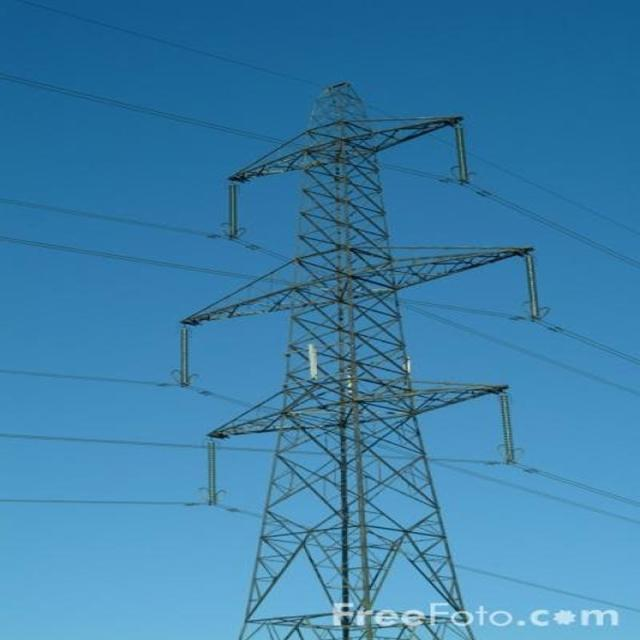non-critical vegetation: (200, 67, 520, 561)
